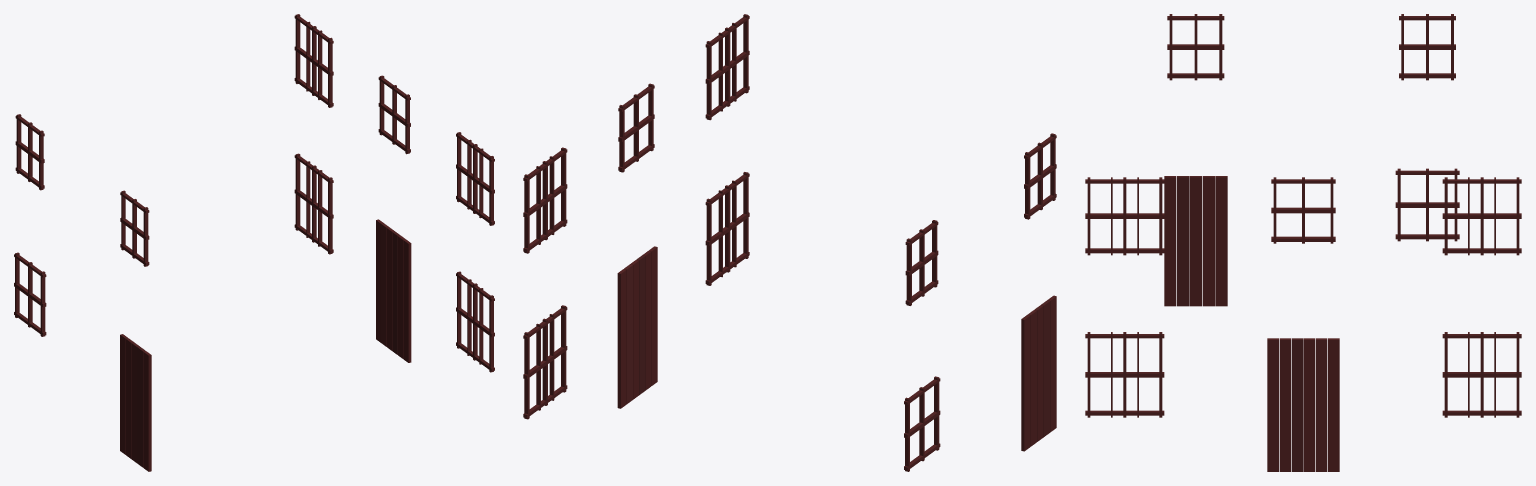
Rendered from SM_Bld_095_Wood.glb.
The picture shows the model from 3 angles, left to right: view 1: azimuth 30°, elevation 25°; view 2: azimuth 150°, elevation 25°; view 3: azimuth 270°, elevation 25°; orthographic projection. The views are drawn at different scales.
Parts seen in each view (by area): view 1: SM_Bld_095_Wood; view 2: SM_Bld_095_Wood; view 3: SM_Bld_095_Wood.
Boxes of the visible parts, x1,y1,x2,y2 form: SM_Bld_095_Wood: (14, 14, 494, 471); SM_Bld_095_Wood: (523, 14, 1056, 471); SM_Bld_095_Wood: (1085, 14, 1521, 471).
Bounding box in the file's own units: 5.61 × 4.55 × 6.13.
